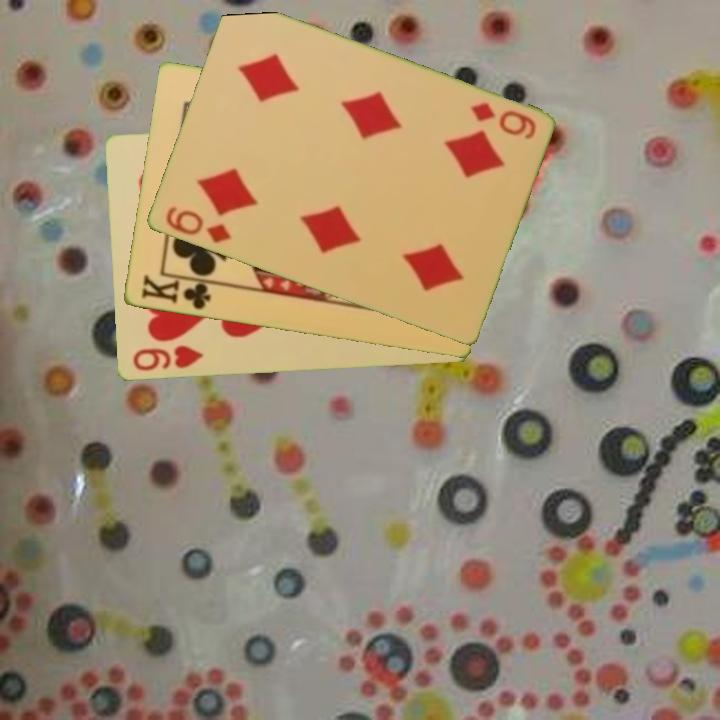6d: (161, 203, 234, 247), (466, 99, 539, 143)
9h: (129, 342, 205, 375)
Kc: (137, 272, 220, 313)
